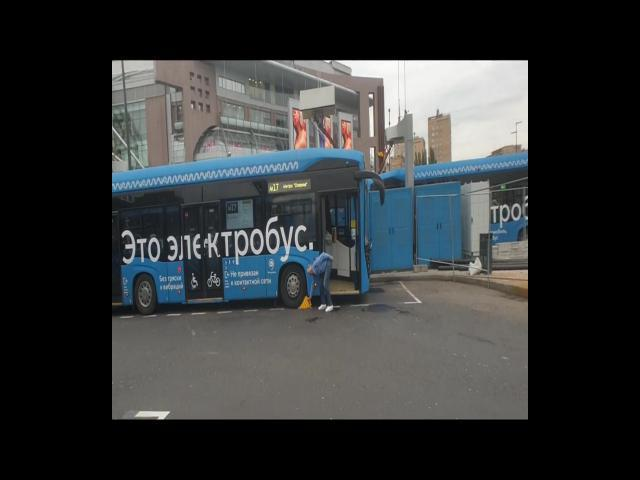bus: (112, 142, 386, 313)
